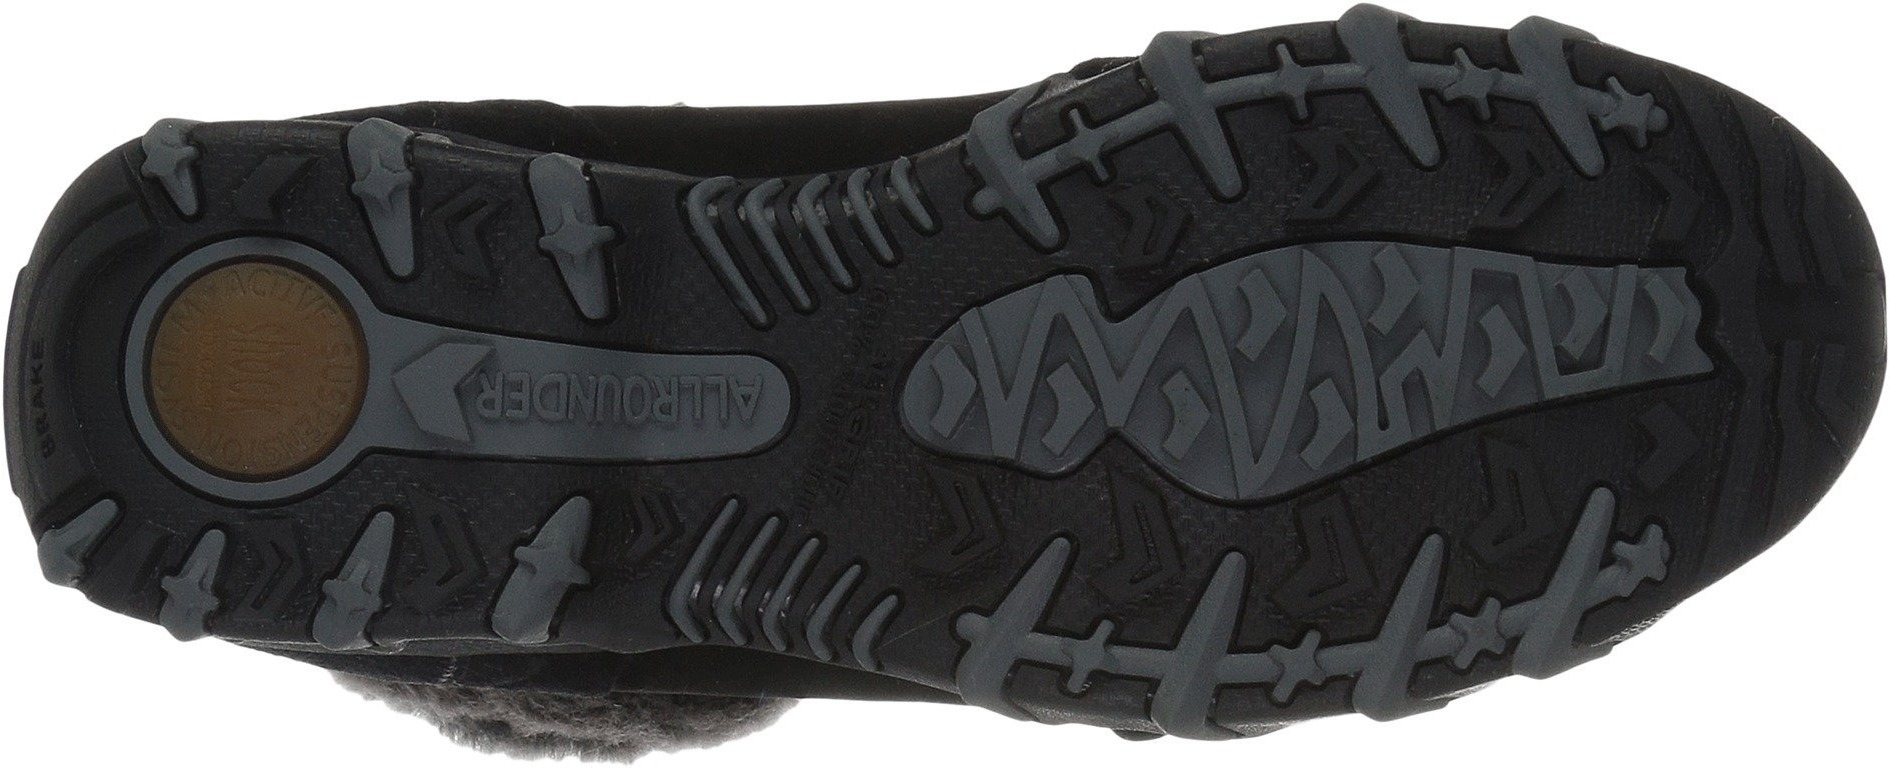chevron: (1137, 254, 1367, 488), (667, 457, 896, 653), (1345, 256, 1545, 450), (910, 305, 1111, 483), (673, 177, 863, 347), (1551, 252, 1706, 397), (369, 316, 505, 453), (1270, 123, 1384, 225)
circle: (118, 238, 383, 505)
line: (1697, 206, 1871, 393)
text: (118, 238, 383, 505), (685, 364, 775, 449), (592, 359, 682, 440), (500, 360, 593, 439)
triangle: (1305, 24, 1475, 186)
